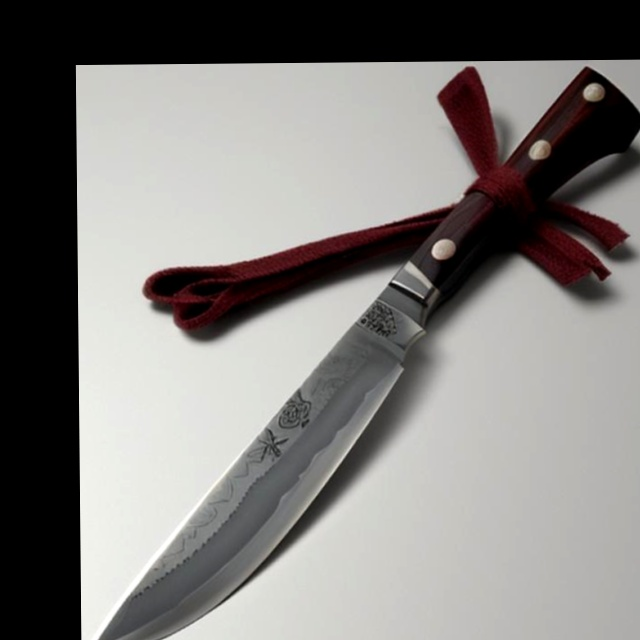Sharp-Object: (76, 60, 640, 640)
